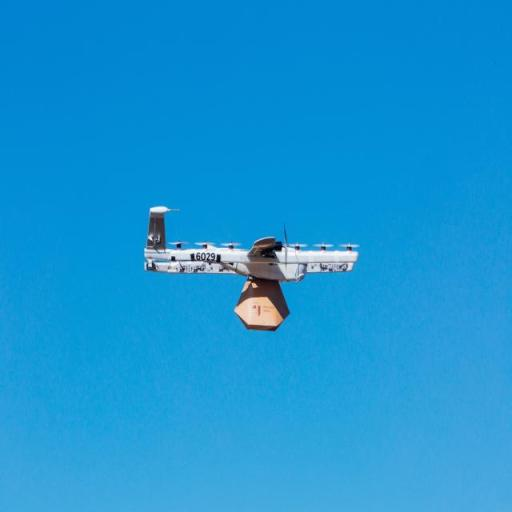uav: (130, 190, 388, 362)
